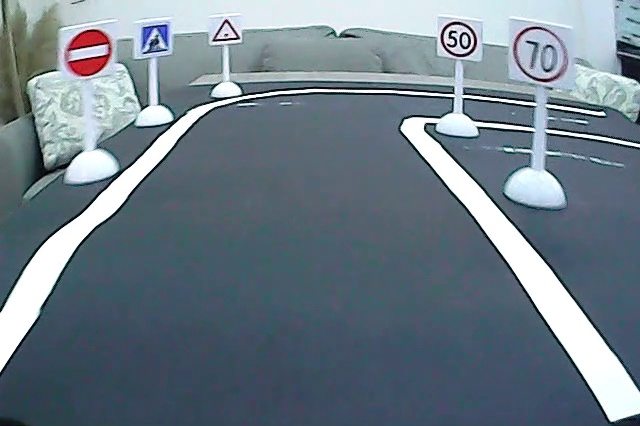do not enter: (61, 25, 114, 80)
green light: (209, 16, 241, 45)
school crossing: (138, 20, 172, 57)
speed limit 50: (438, 18, 481, 60)
speed limit 70: (510, 22, 570, 86)
